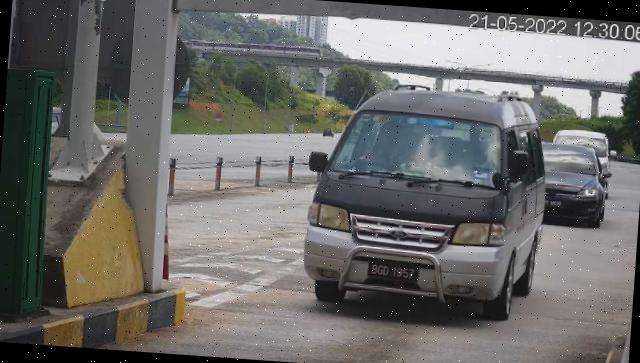License_Plate: (366, 257, 423, 291)
van: (302, 82, 553, 323)
